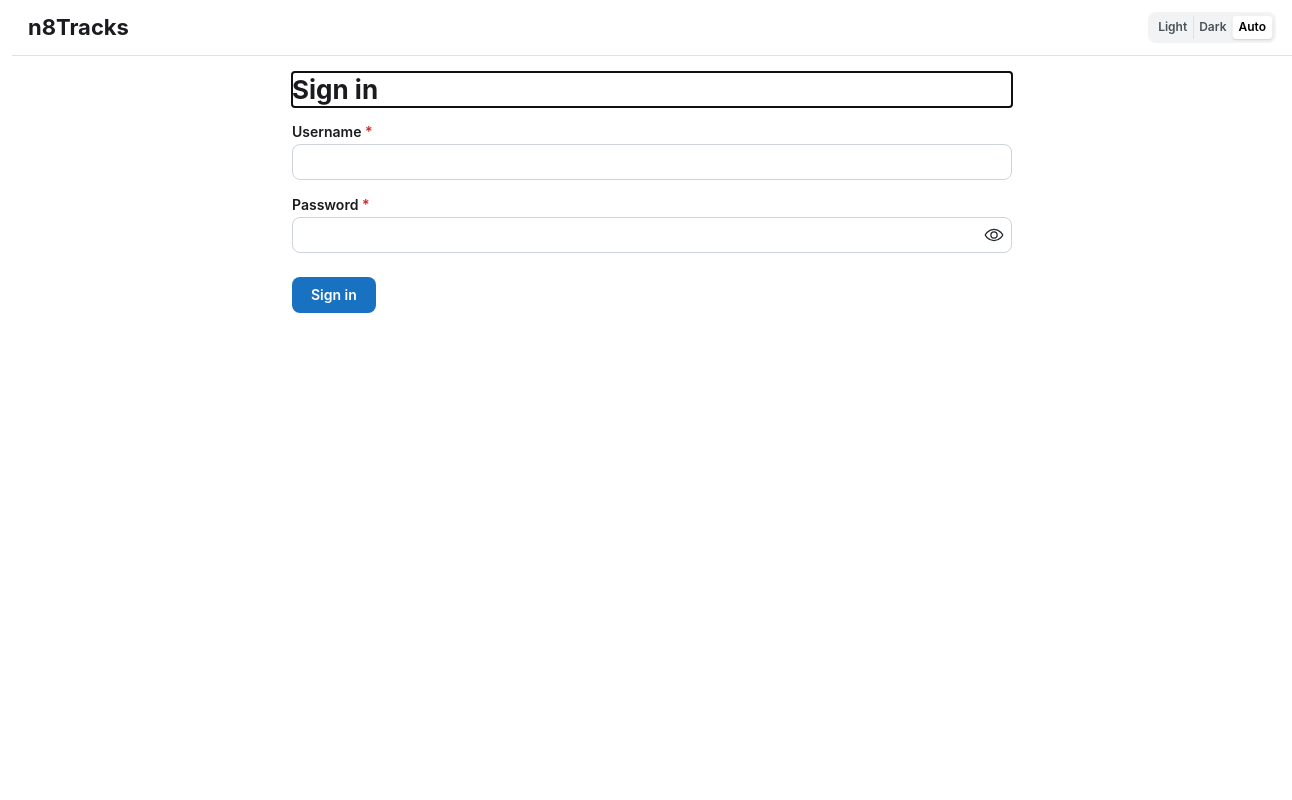
without a session › shows one generic message for a wrong username or password and clears the password
The image size is (1292, 800).
Type "owner" into the field labelled "Username *". click: (652, 162)
box: [292,144,1012,180]
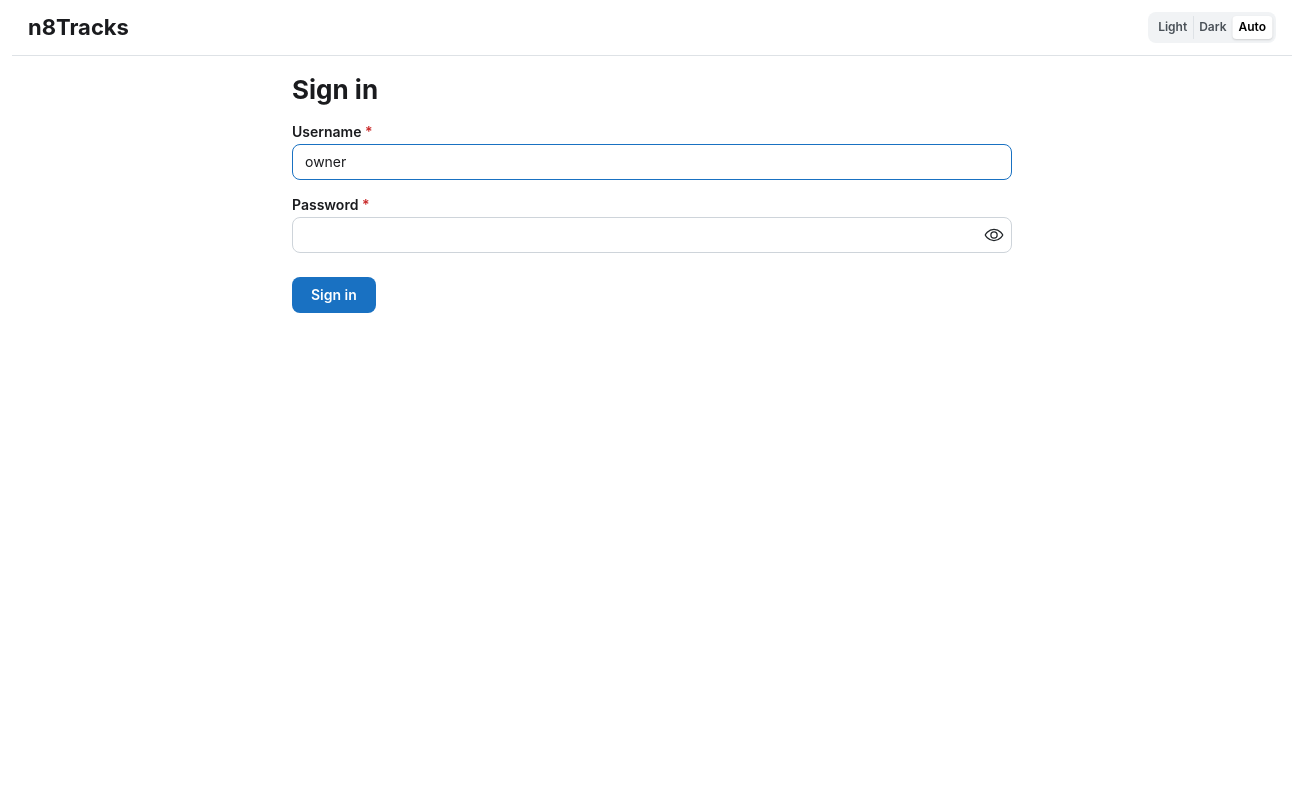
Type "wrong password" into the password field labelled "Password *". click: (652, 235)
box: [293,218,1011,252]
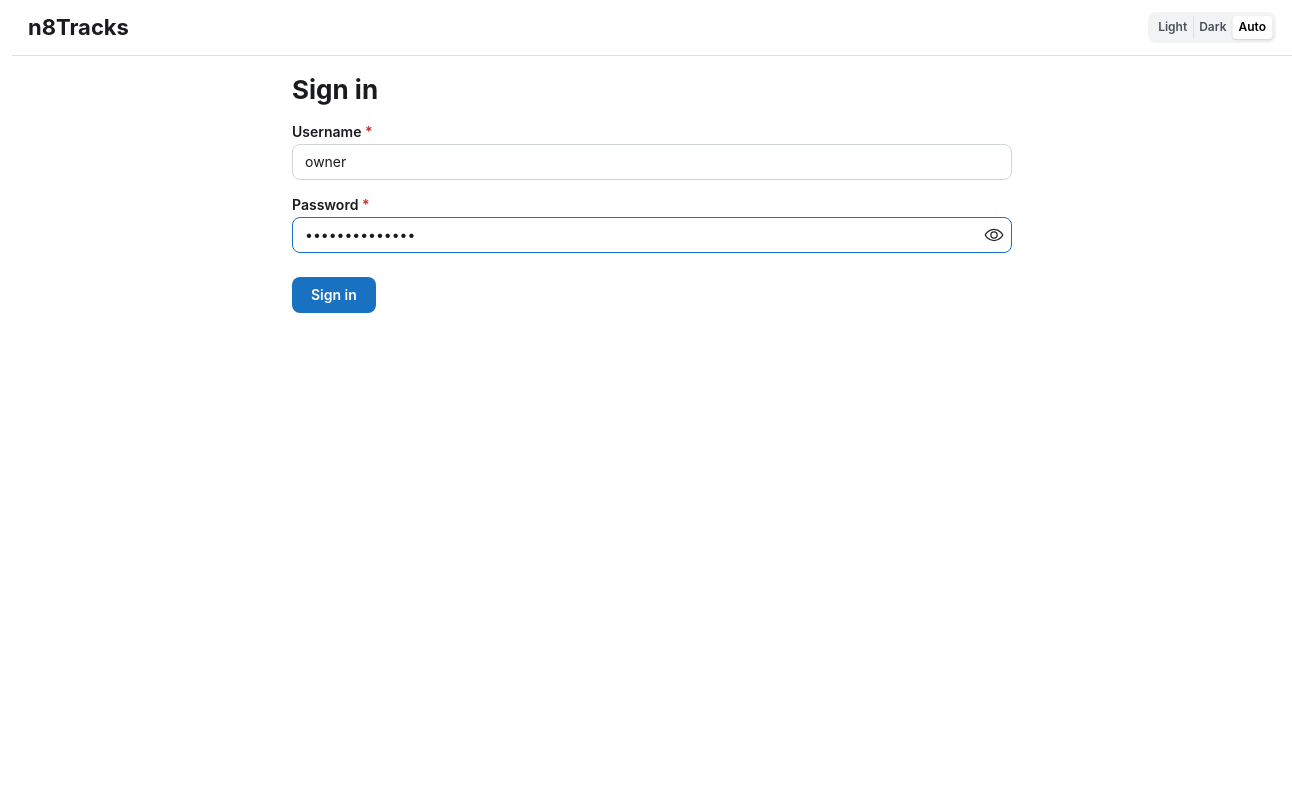
Click the button "Sign in". click: (334, 295)
box: [292,277,376,313]
(page scrolled)
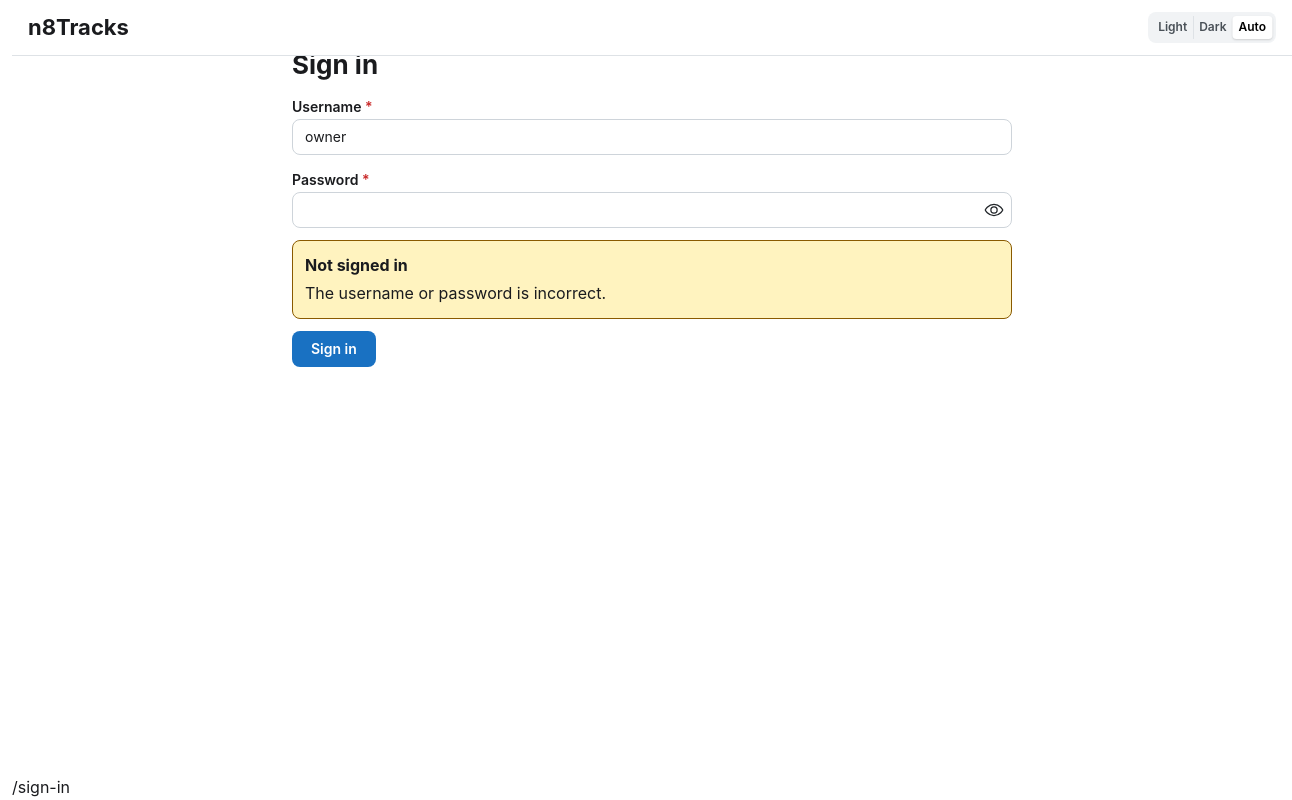
Expected: the text with test id "location" reads "/sign-in", [12,777,70,797]
Expected: the text "The username or password is incorrect." is shown, [305,284,606,304]
Expected: the password field labelled "Password *" is empty, [293,193,1011,227]
